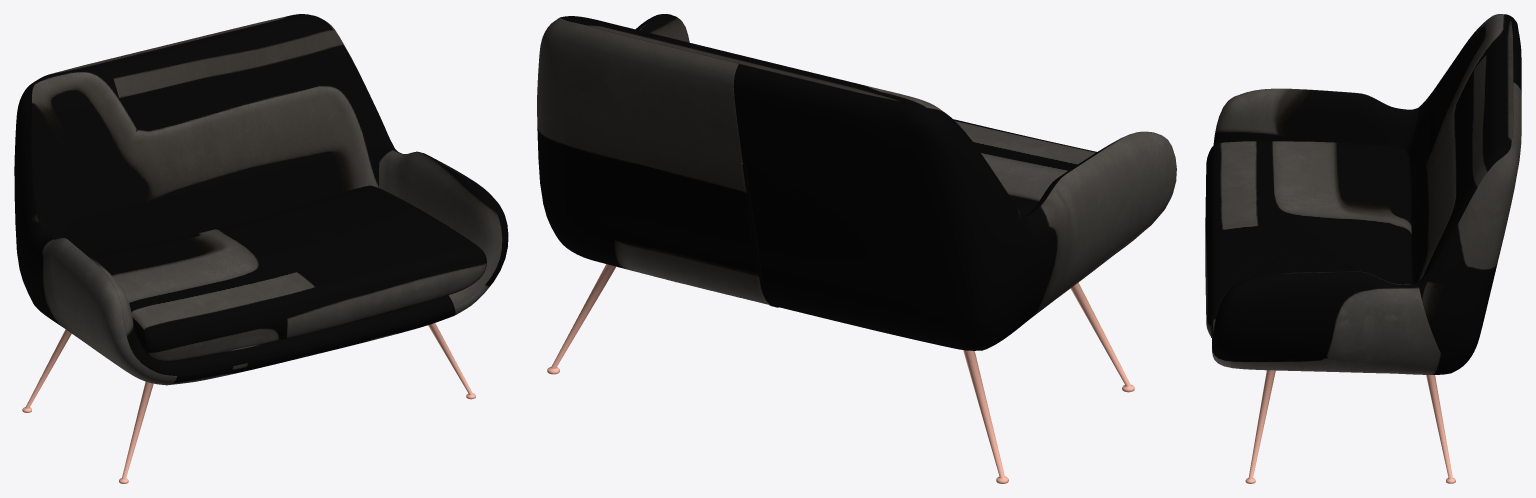
File: mobyPink.gltf
3 views of the same model, side by side, from view 1: azimuth 30°, elevation 25°; view 2: azimuth 150°, elevation 25°; view 3: azimuth 270°, elevation 25° (orthographic). The views are drawn at different scales.
Parts seen in each view (by area): view 1: VELVET, METAL; view 2: VELVET, METAL; view 3: VELVET, METAL.
Boxes of the visible parts, <box> form: VELVET: <box>14,14,508,385</box>; METAL: <box>22,323,475,483</box>; VELVET: <box>537,14,1176,350</box>; METAL: <box>547,264,1134,483</box>; VELVET: <box>1205,14,1521,374</box>; METAL: <box>1245,370,1455,483</box>.
Size of what is drawn, in the model's own units: 122 by 88.75 by 81.39.
